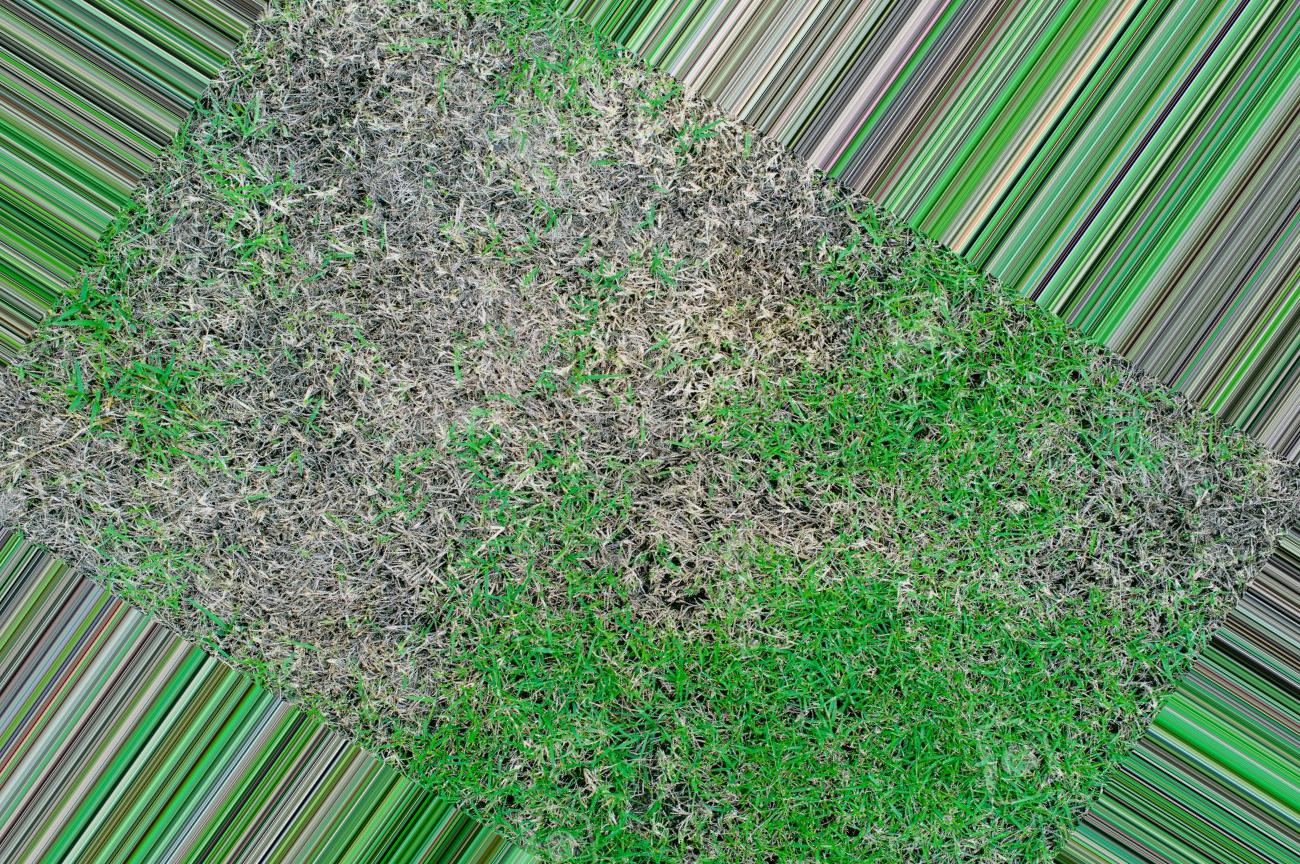patch: (247, 368, 364, 680), (659, 243, 764, 402), (266, 97, 369, 239), (432, 258, 593, 348), (276, 256, 400, 368), (52, 434, 157, 546), (518, 148, 659, 229), (393, 107, 522, 190), (469, 361, 564, 436)
